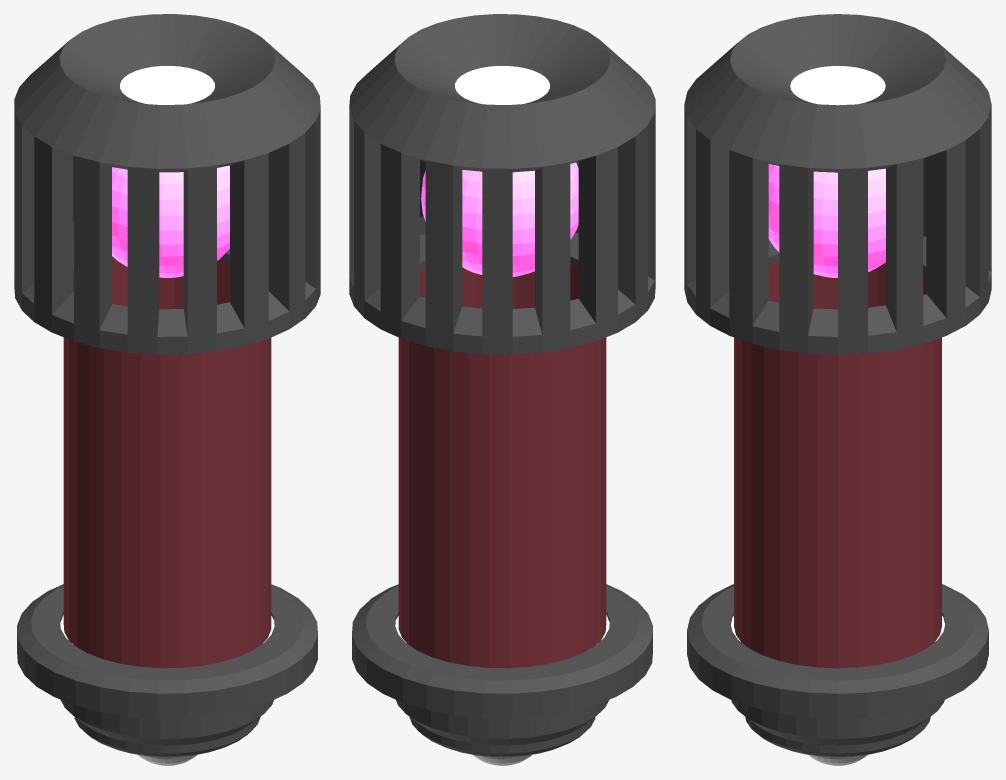
Rendered from Enemy.fbx.
3 renders of one model, left to right at view 1: azimuth 30°, elevation 25°; view 2: azimuth 150°, elevation 25°; view 3: azimuth 270°, elevation 25°, orthographic.
Visible parts, largest first — view 1: Sphere.001; view 2: Sphere.001; view 3: Sphere.001.
Boxes of the visible parts, left/top/right/bottom form: Sphere.001: left=14, top=14, right=320, bottom=765; Sphere.001: left=349, top=14, right=655, bottom=765; Sphere.001: left=684, top=14, right=991, bottom=765.
Size of the model in its own units: 2837 by 7154 by 2837.
